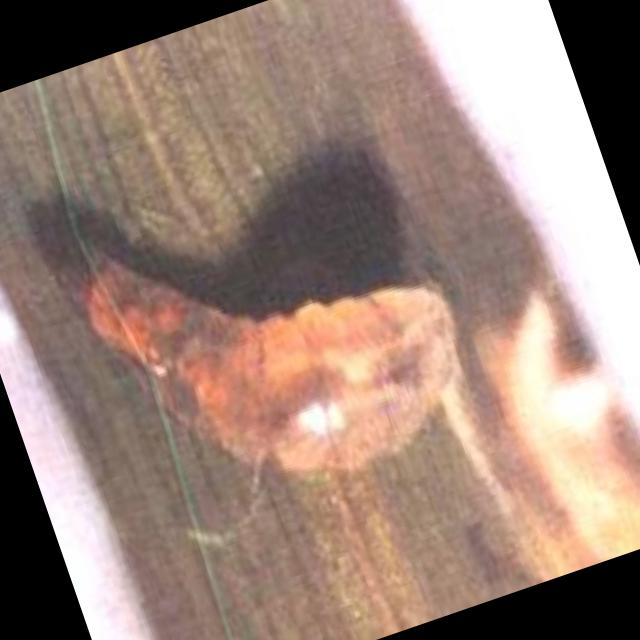whorl-maggot: (79, 252, 457, 471)
